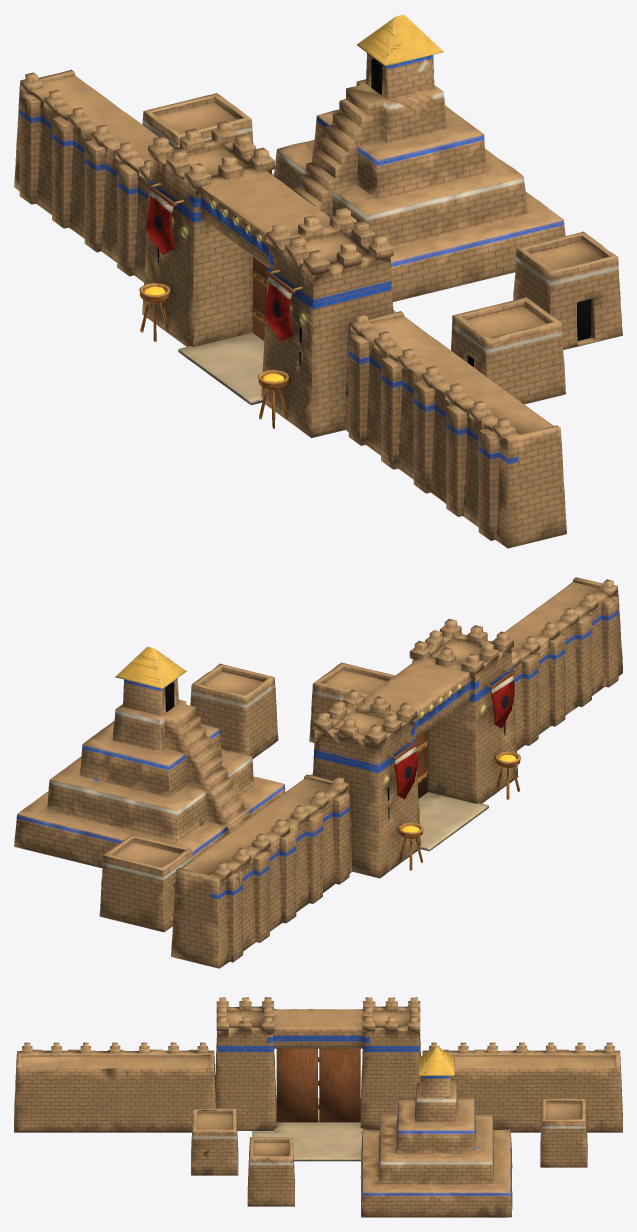
The model's file is bronze_city.glb.
The picture shows the model from 3 angles, top to bottom: view 1: azimuth 30°, elevation 25°; view 2: azimuth 150°, elevation 25°; view 3: azimuth 270°, elevation 25°; orthographic projection. The views are drawn at different scales.
Visible parts, largest first — view 1: City; view 2: City; view 3: City.
Part boxes in pixels (x1,y1,x2,y2): City: (14, 14, 622, 548); City: (14, 577, 622, 968); City: (14, 997, 622, 1217).
Size of the model in its own units: 6.07 by 3.26 by 12.9.
Materials: 2 (1 with a texture image).
